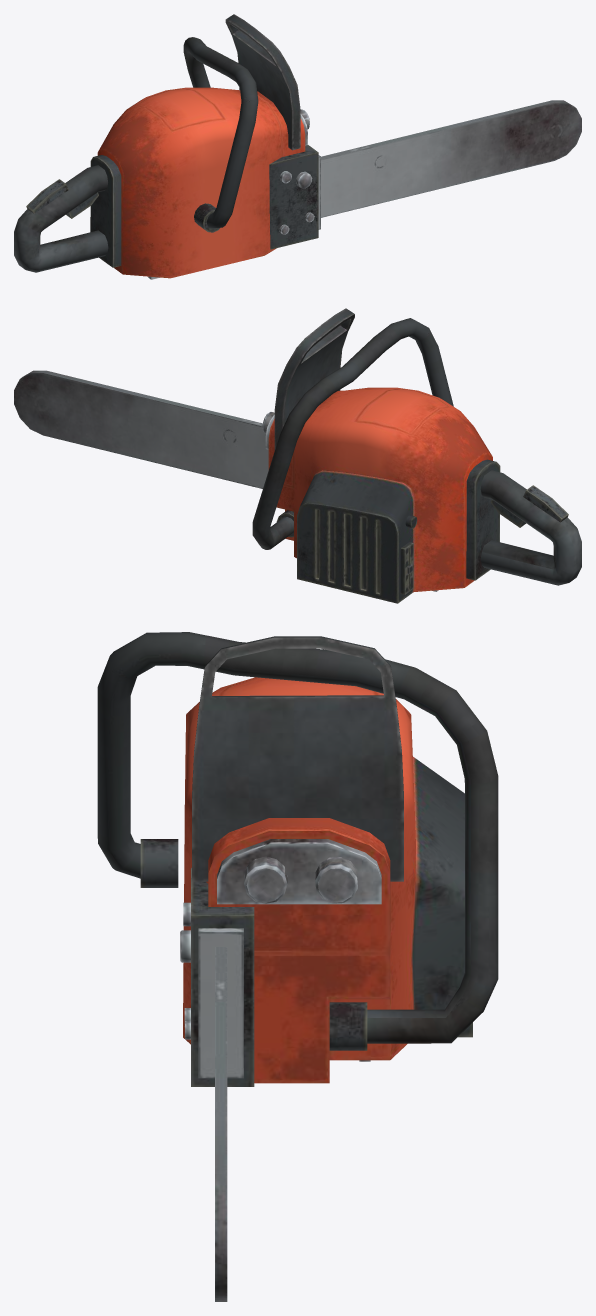
The model's file is chainsaw.glb.
3 renders of one model, top to bottom at view 1: azimuth 30°, elevation 25°; view 2: azimuth 150°, elevation 25°; view 3: azimuth 270°, elevation 25°, orthographic. The views are drawn at different scales.
Parts seen in each view (by area): view 1: Chainsaw_Body; view 2: Chainsaw_Body; view 3: Chainsaw_Body.
Boxes of the visible parts, bbox=[...] form: Chainsaw_Body: bbox=[14, 14, 581, 279]; Chainsaw_Body: bbox=[14, 308, 581, 603]; Chainsaw_Body: bbox=[97, 632, 498, 1301].
Size of the model in its own units: 0.8 by 0.2979 by 0.2552.
1 material, 1 textured.
